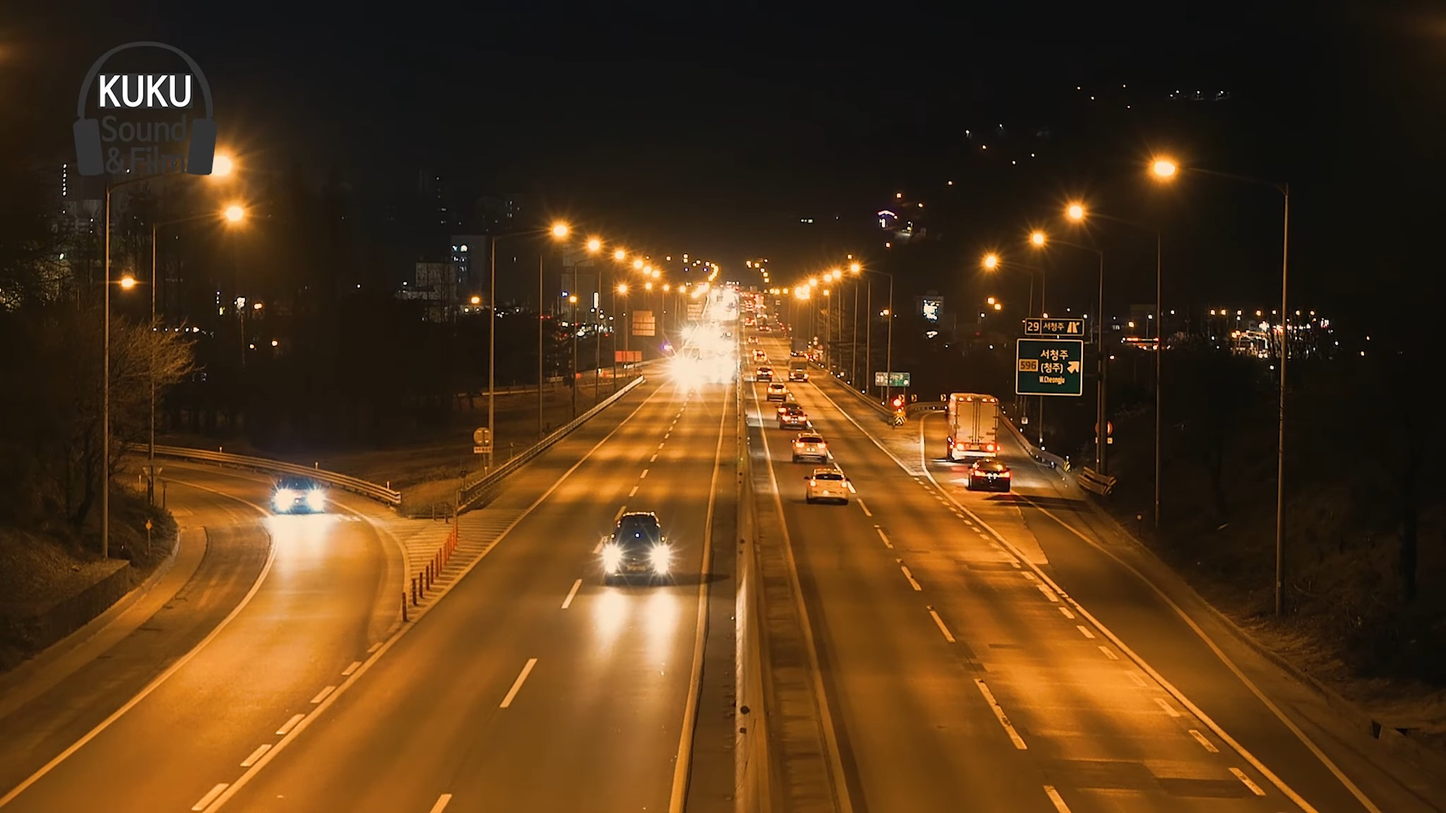car: (604, 508, 670, 587), (269, 470, 329, 521), (969, 463, 1013, 494), (789, 434, 829, 464), (807, 470, 846, 500)
truck: (941, 390, 1004, 470)
